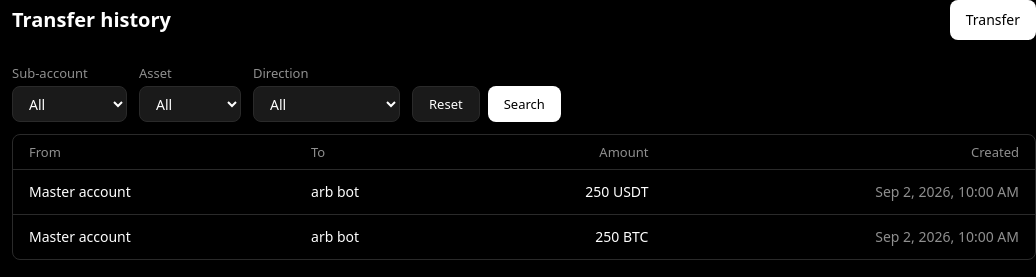
Test case: Sub-account transfer history › filters on Search, not as the selects change
expect the text "250 USDT" is shown: met, box [464,170,664,214]
Select "BTC" in the dropdown named "Asset" at (190, 104), box [139,86,241,122]
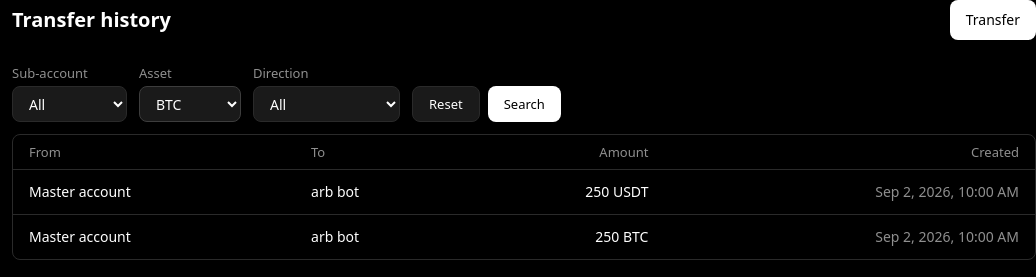
expect the text "250 USDT" is shown: met, box [464,170,664,214]
Click the button "Search" at (524, 104), box [488,86,561,122]
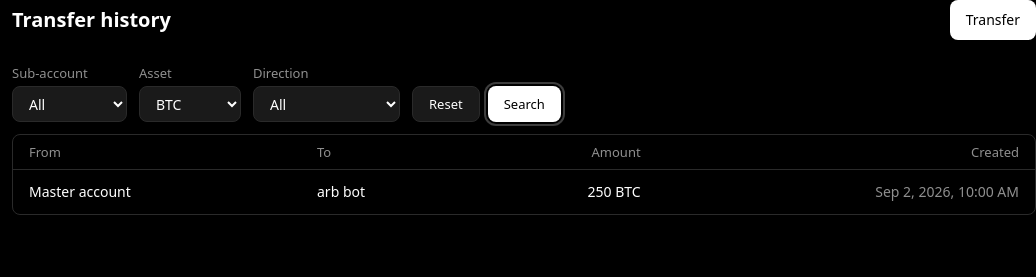
expect the text "250 BTC" is shown: met, box [473,170,657,214]
expect the text "250 USDT" is gone: met
Click the button "Reset" at (446, 104), box [412,86,480,122]
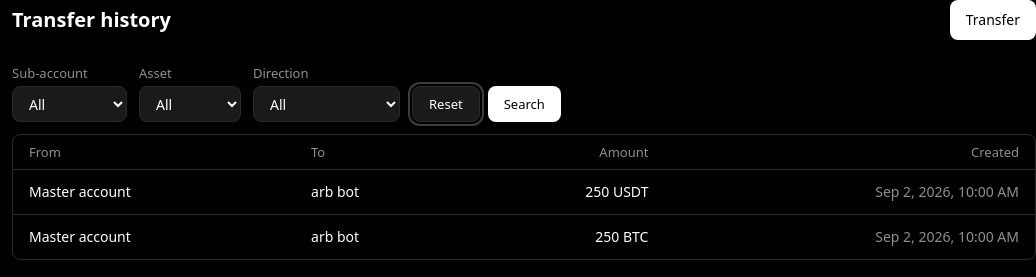
expect the text "250 USDT" is shown: met, box [464,170,664,214]
